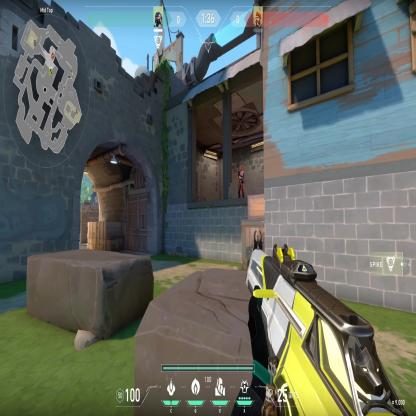enemy: (236, 165, 246, 199)
